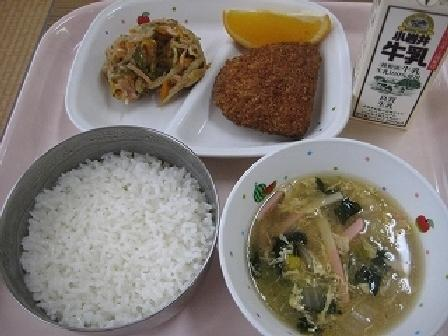Citrus: (217, 7, 338, 48)
Milk: (338, 0, 447, 129)
Rice: (7, 117, 212, 324)
Soups: (232, 145, 445, 331)
cooked food meat with vegetables: (102, 13, 204, 106)
cutlet: (214, 46, 337, 140)
